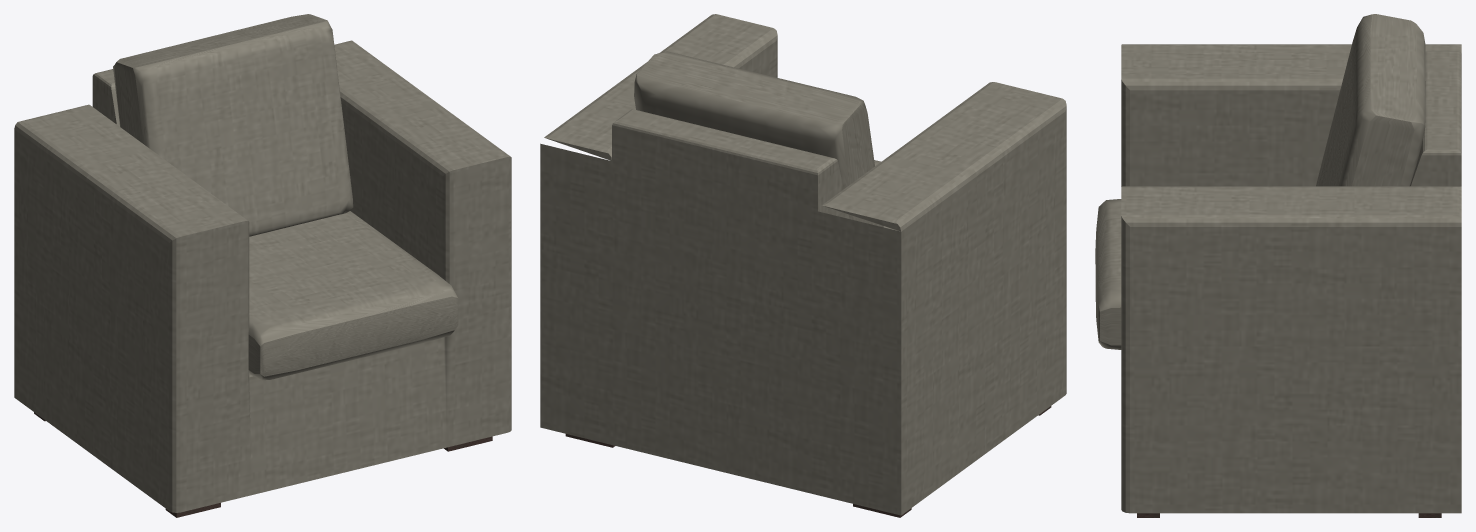
File: armchair.glb
3 renders of one model, left to right at view 1: azimuth 30°, elevation 25°; view 2: azimuth 150°, elevation 25°; view 3: azimuth 270°, elevation 25°, orthographic. The views are drawn at different scales.
Visible parts, largest first — view 1: Cube.005, Cube.007, Cube.006; view 2: Cube.005, Cube.007; view 3: Cube.005, Cube.007, Cube.006.
Part boxes in pixels (<box>): Cube.005: <box>14,40,511,512</box>; Cube.007: <box>113,14,353,236</box>; Cube.006: <box>248,211,458,380</box>; Cube.005: <box>540,14,1066,515</box>; Cube.007: <box>634,51,883,227</box>; Cube.005: <box>1121,44,1461,513</box>; Cube.007: <box>1316,14,1425,186</box>; Cube.006: <box>1095,199,1121,349</box>.
Bounding box in the file's own units: 1.05 × 1.04 × 0.9147.
Materials: 2 (2 with a texture image).
